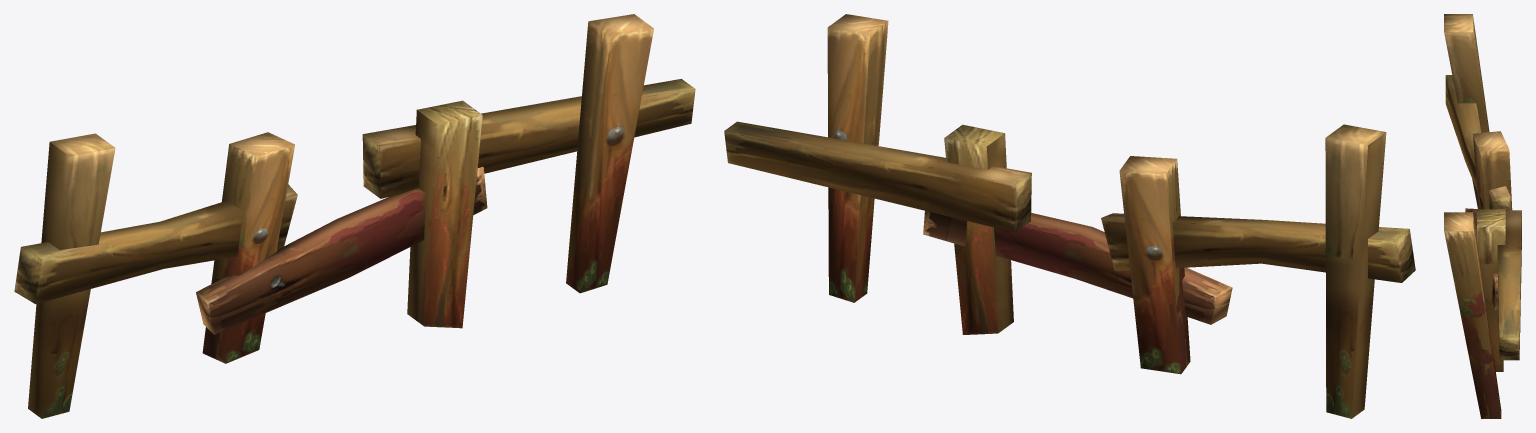
Rendered from langang_jiaowai_X01.FBX.
3 renders of one model, left to right at view 1: azimuth 30°, elevation 25°; view 2: azimuth 150°, elevation 25°; view 3: azimuth 270°, elevation 25°, orthographic. The views are drawn at different scales.
Parts seen in each view (by area): view 1: langang_jiaowai_X01; view 2: langang_jiaowai_X01; view 3: langang_jiaowai_X01.
Part boxes in pixels (x1=…): langang_jiaowai_X01: x1=14, y1=14, x2=695, y2=418; langang_jiaowai_X01: x1=724, y1=14, x2=1415, y2=418; langang_jiaowai_X01: x1=1444, y1=14, x2=1521, y2=418.
Size of the model in its own units: 709 by 282 by 94.19.
